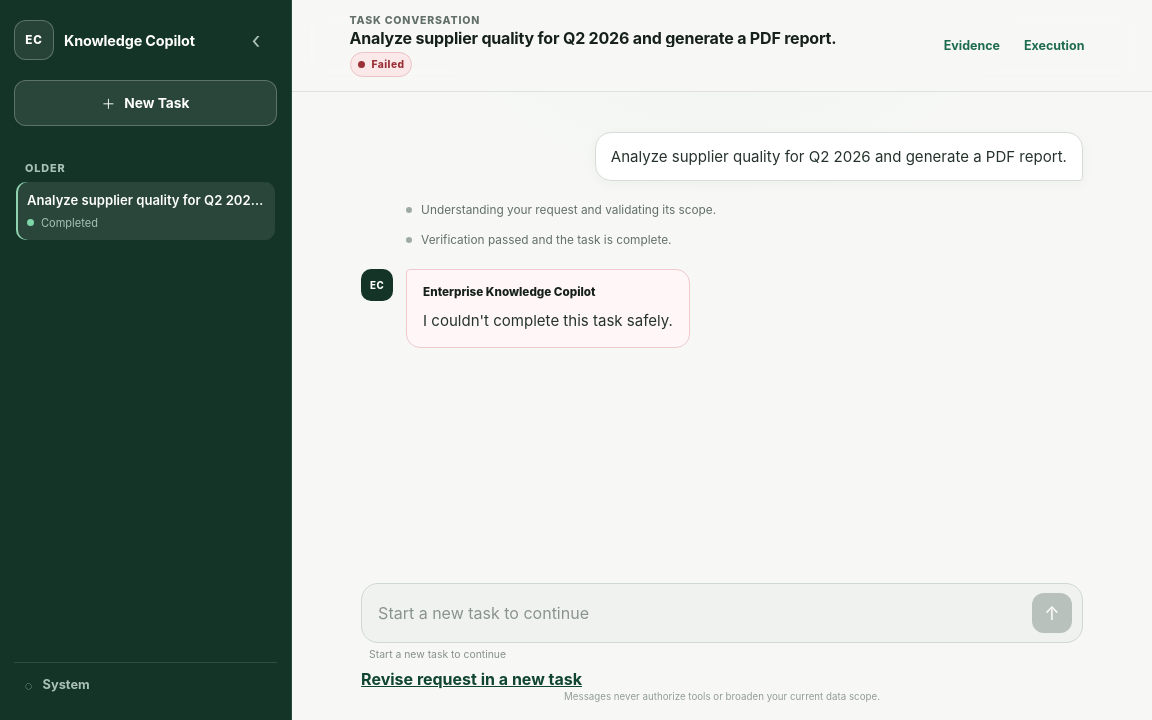
Chat-first Task Workspace › keeps a FAILED task read-only
Expected: the text "Failed" is shown, [350,52,412,77]
Expected: the text box named "Message the Enterprise Knowledge Copilot" is disabled, [378,594,1022,633]
Click the link "Revise request in a new task" at point(472, 679), box [361,669,582,689]
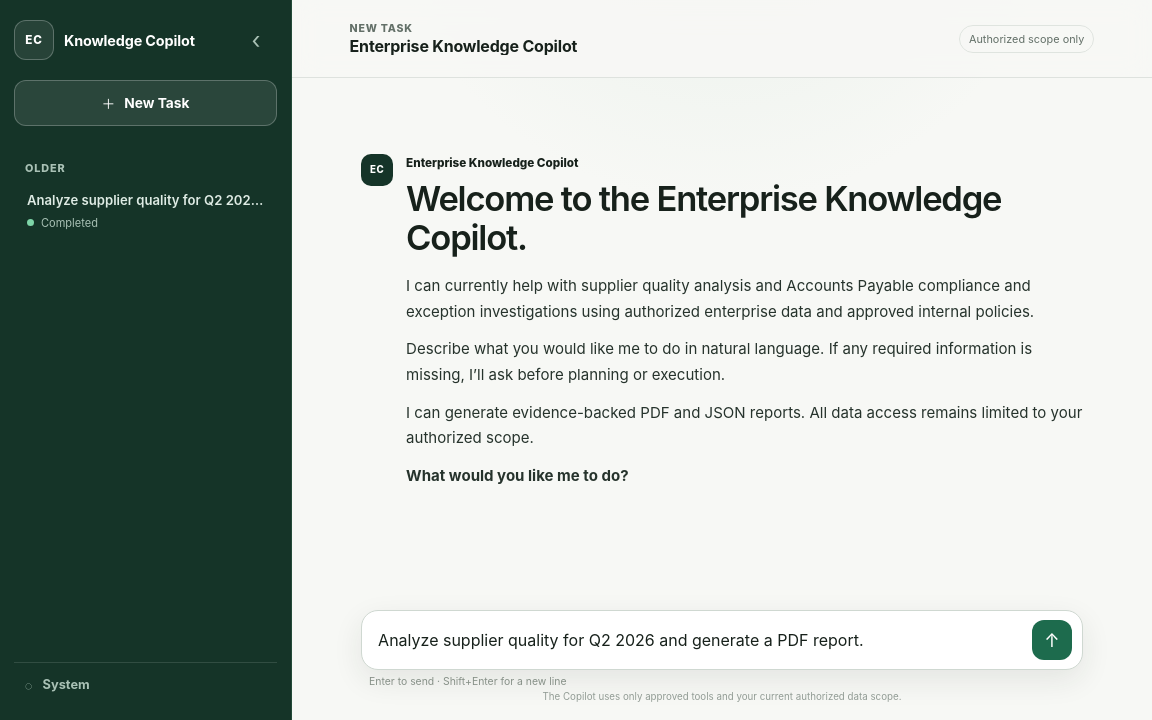
Result: the text box named "Message the Enterprise Knowledge Copilot" holds "Analyze supplier quality for Q2 2026 and generate a PDF report." at [378,621,1022,660]
